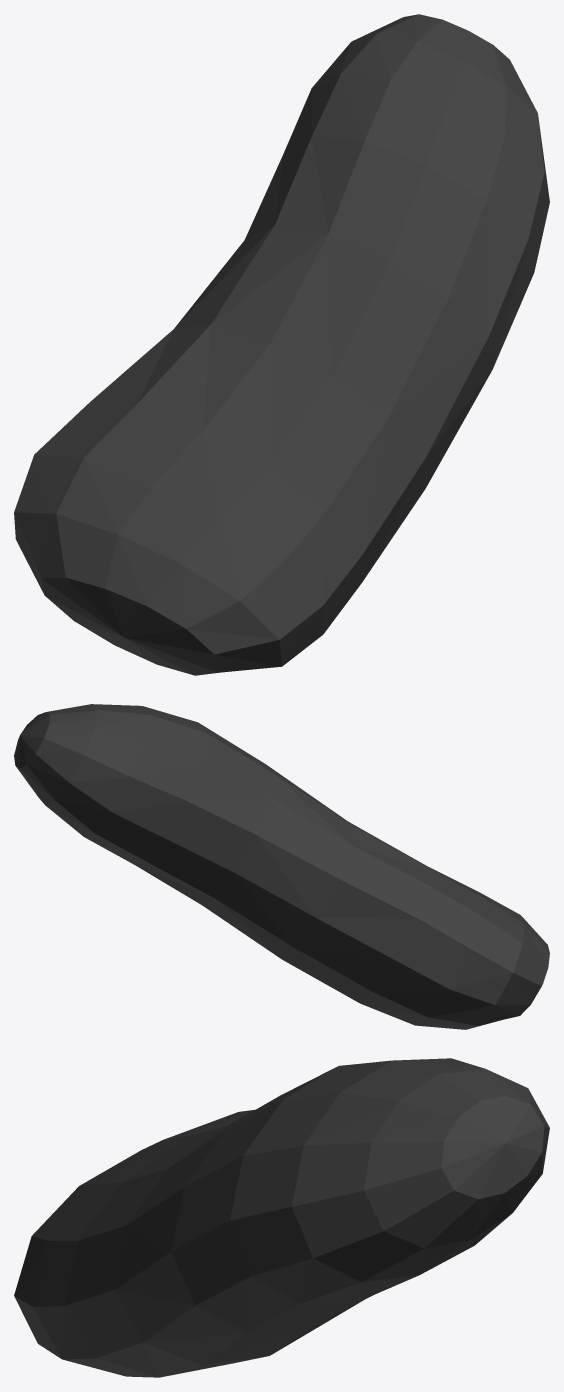
The model's file is adrenal_L_LP.glb.
3 renders of one model, top to bottom at view 1: azimuth 30°, elevation 25°; view 2: azimuth 150°, elevation 25°; view 3: azimuth 270°, elevation 25°, orthographic. The views are drawn at different scales.
Visible parts, largest first — view 1: adrenal_L_LP; view 2: adrenal_L_LP; view 3: adrenal_L_LP.
Part boxes in pixels (x1=…): adrenal_L_LP: x1=14, y1=14, x2=549, y2=675; adrenal_L_LP: x1=14, y1=704, x2=549, y2=1029; adrenal_L_LP: x1=14, y1=1058, x2=549, y2=1377.
Bounding box in the file's own units: 0.00128 × 0.000892 × 0.000944.
1 material, 1 textured.
